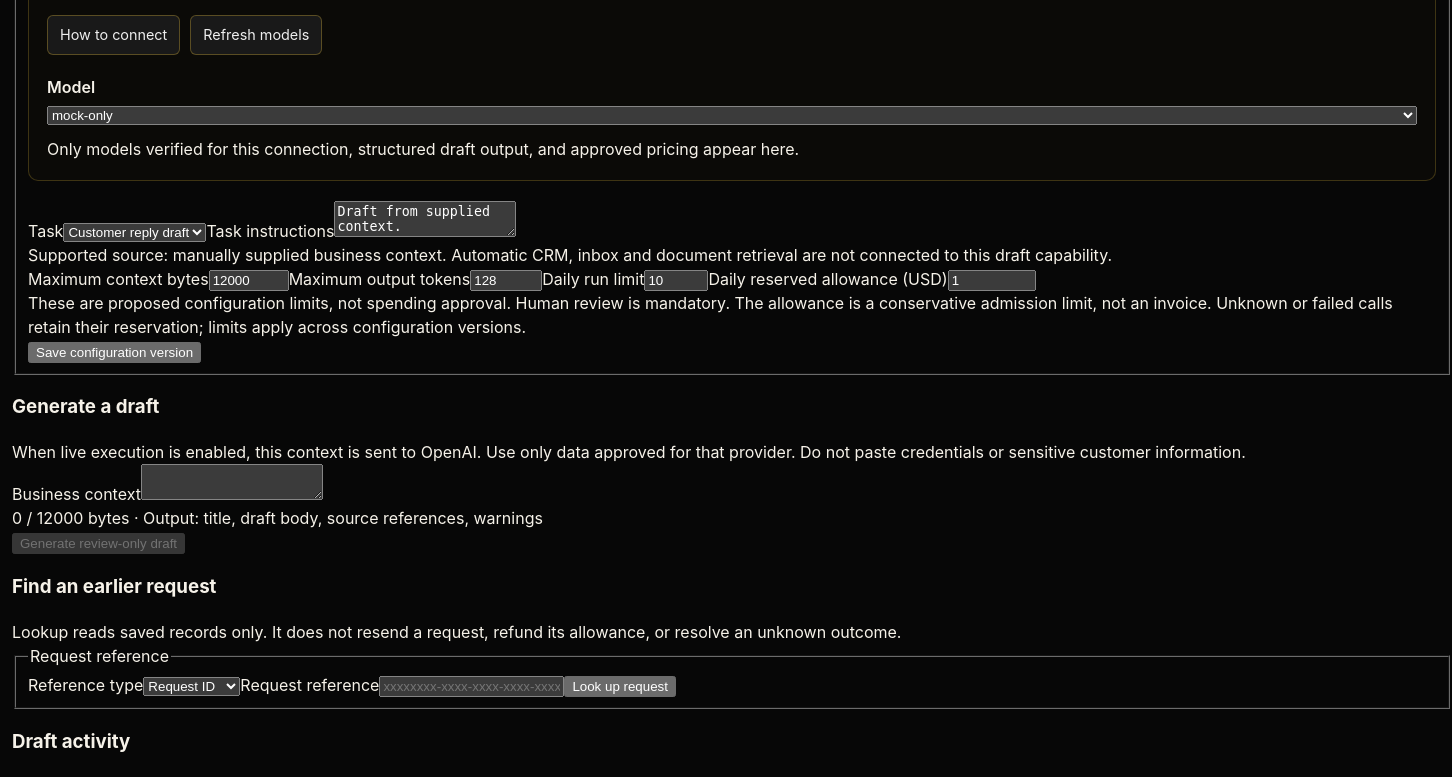
Test: known pre-admission budget rejection remains actionable instead of uncertain
(page scrolled)
Type "Context" into the text box labelled "Business context" at [232, 482], box x1=141 y1=464 x2=323 y2=500
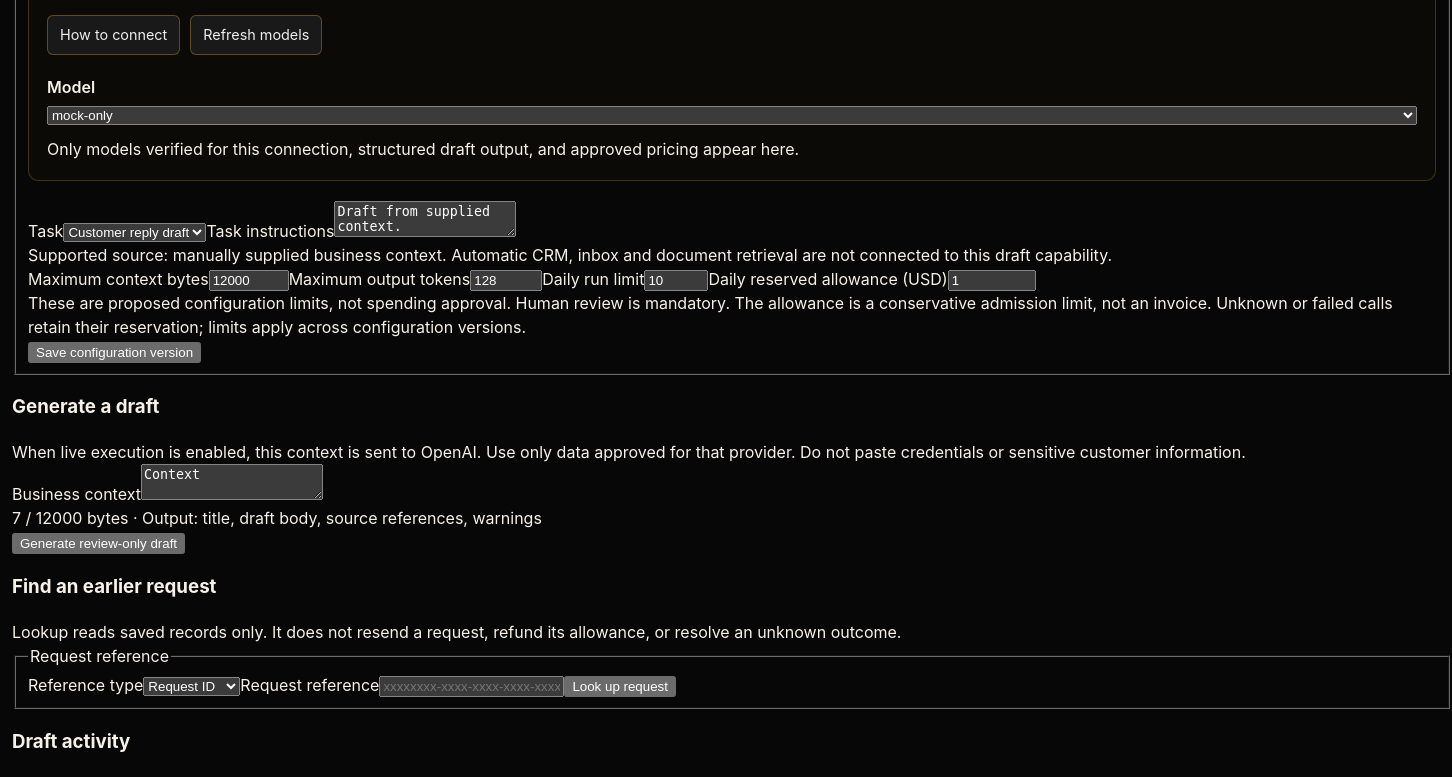
Click the button "Generate review-only draft" at [99, 544], box x1=12 y1=533 x2=185 y2=554
(page scrolled)
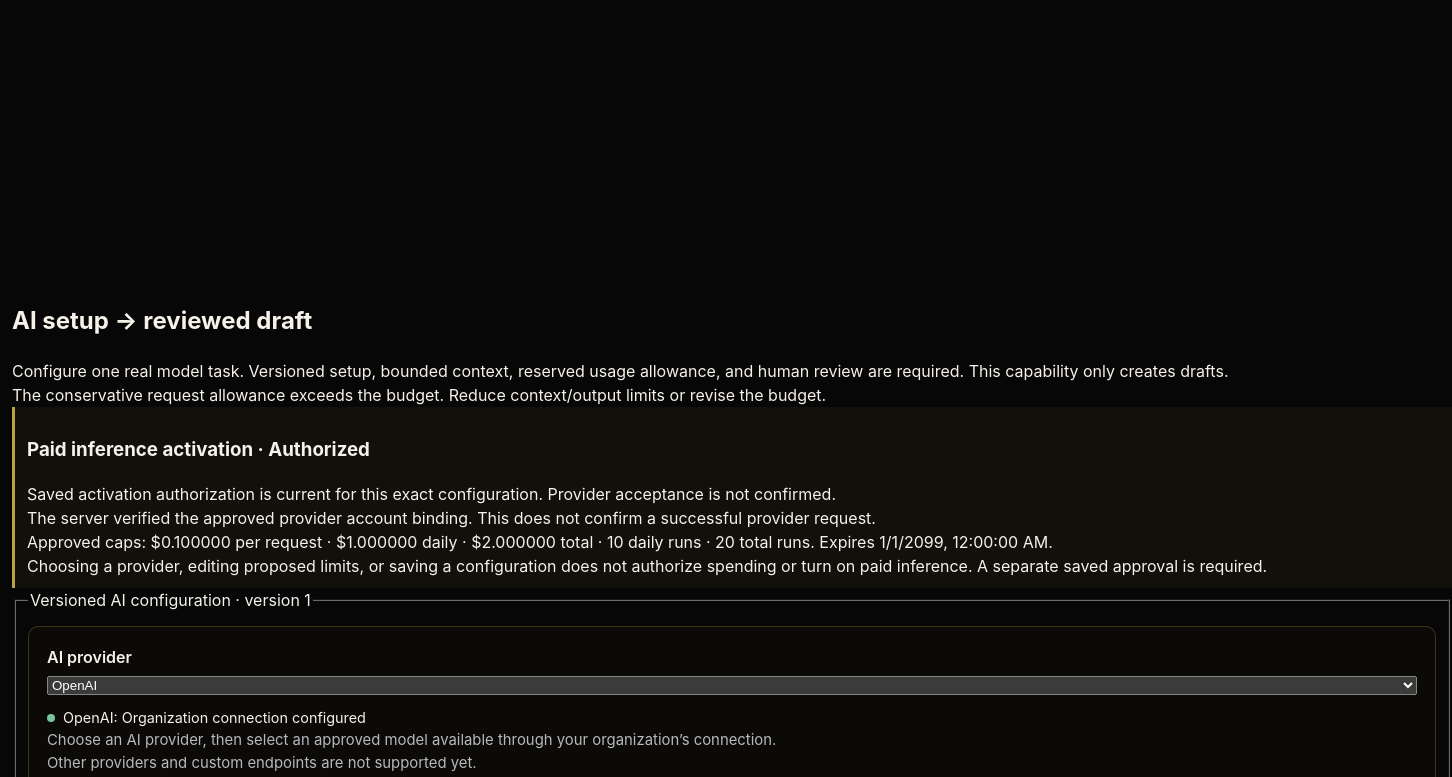
Check: the text "The conservative request allowance" is shown, box x1=12 y1=385 x2=826 y2=405
